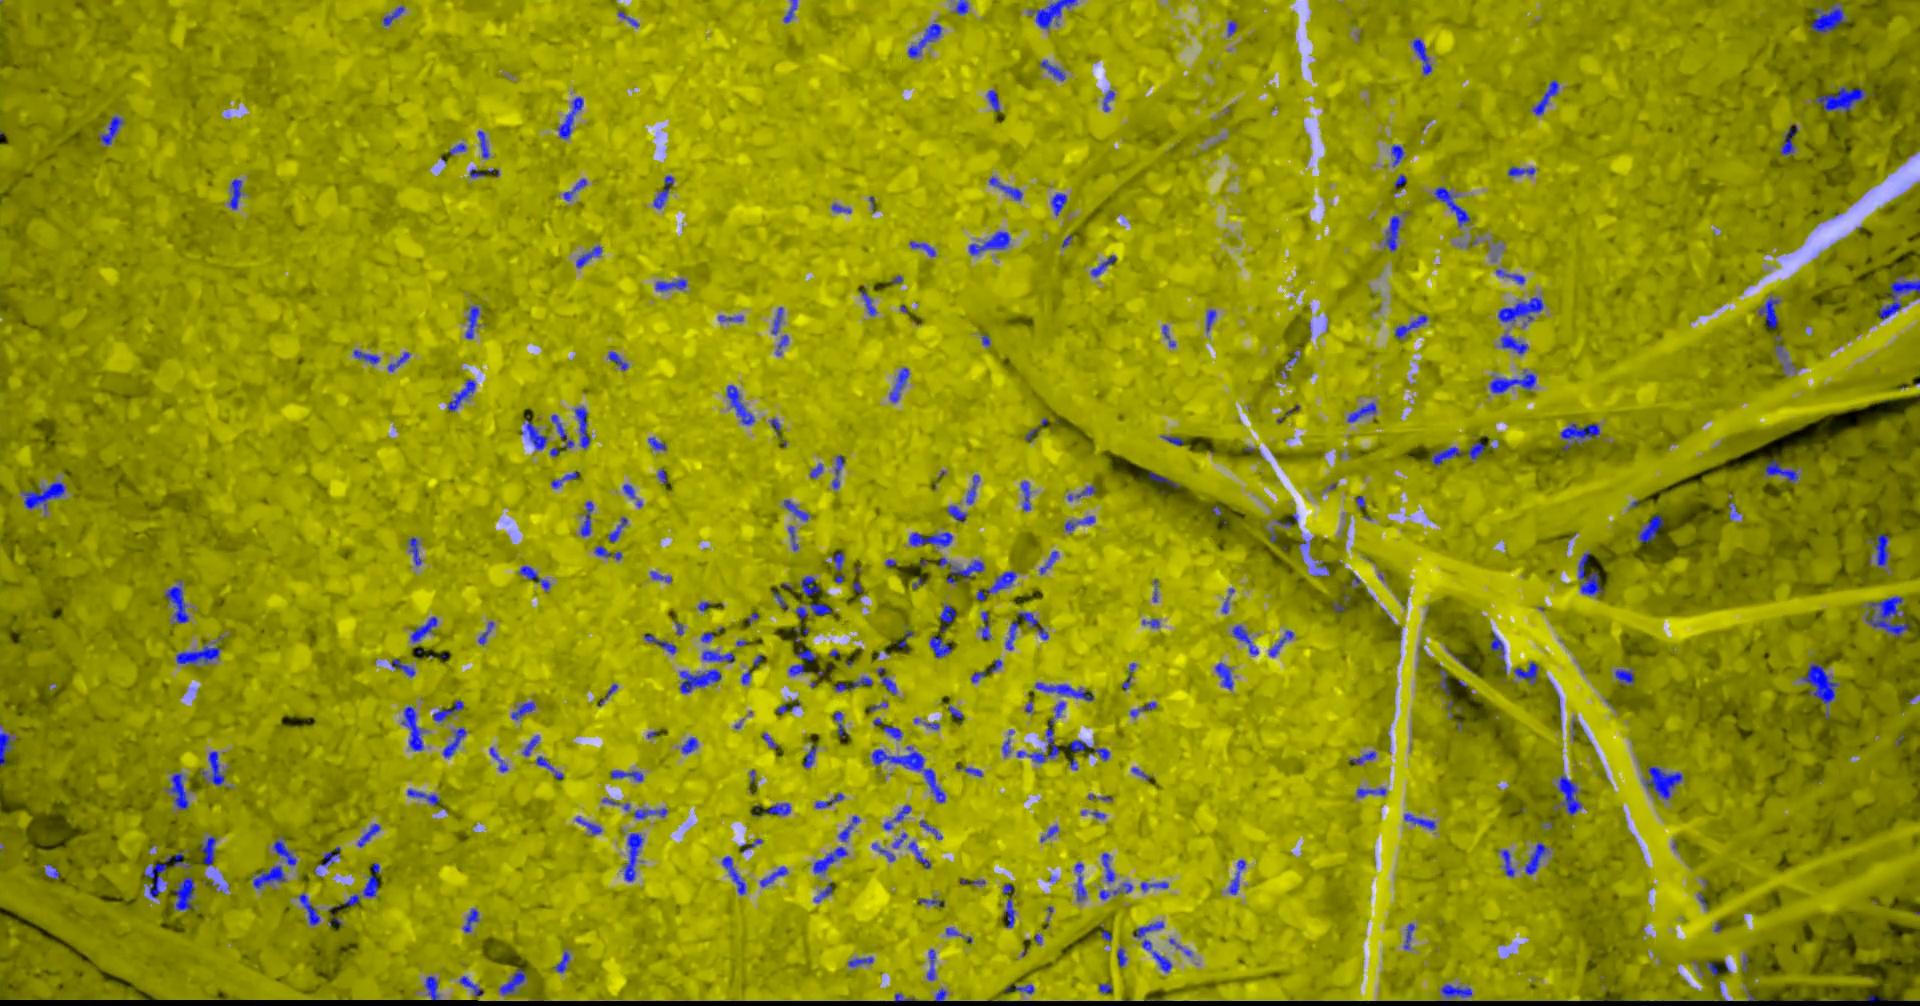ant: (871, 746, 945, 801), (143, 851, 190, 897), (1801, 662, 1837, 716), (1016, 718, 1059, 762), (1878, 276, 1919, 319), (1865, 596, 1909, 636), (1432, 185, 1470, 226), (1029, 0, 1076, 28), (1644, 766, 1683, 799), (22, 480, 63, 509), (1497, 296, 1543, 323), (1815, 86, 1864, 111), (907, 23, 941, 57), (977, 570, 1016, 600), (726, 384, 754, 424), (937, 558, 983, 582), (1810, 3, 1846, 32), (557, 97, 583, 138), (1577, 553, 1603, 594), (1034, 682, 1093, 700), (1559, 423, 1599, 450), (164, 580, 188, 622), (679, 669, 720, 694), (1557, 775, 1581, 815), (401, 705, 423, 749), (968, 231, 1010, 254), (721, 855, 745, 894), (1531, 79, 1558, 114), (811, 846, 847, 873), (623, 832, 643, 882), (1490, 372, 1535, 392), (1063, 739, 1109, 760), (1131, 921, 1163, 950), (447, 379, 475, 412), (1016, 612, 1048, 639), (1394, 312, 1427, 338), (175, 645, 218, 664), (1232, 624, 1258, 654), (550, 414, 573, 448), (1764, 459, 1798, 481), (521, 419, 547, 448), (988, 177, 1021, 199), (251, 865, 284, 888), (519, 565, 550, 589), (432, 699, 463, 721), (328, 893, 359, 916), (168, 772, 188, 808), (643, 633, 676, 654), (173, 876, 194, 909), (499, 968, 526, 995), (1638, 514, 1663, 542), (883, 804, 910, 829), (971, 658, 1001, 682), (272, 836, 296, 865), (442, 727, 465, 757), (1525, 842, 1547, 874), (1412, 38, 1431, 74), (410, 616, 437, 641), (98, 116, 122, 144), (535, 754, 563, 779), (653, 175, 673, 208), (1490, 633, 1506, 673), (298, 892, 319, 925), (1757, 296, 1779, 326), (889, 367, 908, 401), (574, 406, 589, 448), (795, 603, 830, 621), (1269, 630, 1293, 655), (909, 532, 952, 546), (1346, 401, 1375, 422), (1228, 859, 1244, 894), (1098, 882, 1131, 899), (1512, 661, 1537, 685), (356, 823, 380, 847), (908, 841, 930, 868), (1500, 334, 1528, 354), (759, 866, 787, 887), (1431, 447, 1463, 465), (408, 788, 439, 805), (1384, 215, 1399, 251), (833, 677, 872, 691), (1040, 58, 1065, 80), (575, 245, 601, 267), (1872, 533, 1888, 567), (362, 862, 378, 895), (1090, 255, 1116, 276), (607, 516, 627, 542), (876, 667, 897, 694), (1403, 813, 1435, 829), (208, 751, 223, 785), (858, 286, 876, 315), (838, 815, 858, 841), (1064, 514, 1095, 531), (563, 178, 585, 199), (783, 499, 808, 520), (458, 976, 483, 996), (575, 815, 601, 835), (1780, 124, 1797, 154), (199, 836, 216, 865), (830, 453, 844, 488), (930, 635, 951, 657), (1148, 471, 1178, 486), (919, 819, 942, 840), (465, 305, 479, 338), (580, 500, 593, 536), (390, 658, 415, 676), (489, 747, 507, 772), (1074, 861, 1086, 901), (814, 793, 843, 808), (550, 471, 577, 488), (938, 605, 955, 631), (1215, 662, 1232, 688), (387, 351, 409, 371), (510, 701, 535, 719), (965, 474, 979, 504), (1067, 485, 1095, 500), (1440, 984, 1470, 998), (610, 768, 643, 781), (607, 351, 629, 370), (319, 846, 340, 865), (1495, 269, 1524, 283), (1004, 621, 1018, 650), (594, 545, 621, 560), (1039, 551, 1057, 574), (1121, 662, 1137, 688), (1129, 701, 1156, 716), (871, 843, 894, 861), (229, 178, 241, 210), (408, 537, 422, 565), (1500, 848, 1514, 876), (382, 6, 403, 25), (909, 241, 935, 257), (655, 278, 686, 291), (1101, 852, 1114, 883), (1150, 951, 1171, 970), (701, 650, 734, 662), (0, 732, 11, 765), (763, 801, 790, 815), (462, 908, 477, 932), (800, 575, 819, 594), (617, 9, 639, 25), (353, 349, 378, 363), (832, 711, 846, 737), (833, 553, 844, 583), (477, 621, 493, 644), (632, 808, 667, 818), (1003, 897, 1015, 927), (424, 976, 439, 998), (1001, 729, 1013, 756), (955, 763, 982, 776), (813, 883, 832, 901), (522, 735, 538, 756), (552, 951, 569, 972), (1350, 751, 1375, 763), (477, 130, 489, 158), (1051, 192, 1065, 215), (776, 699, 799, 713), (1467, 441, 1484, 459), (795, 647, 815, 662), (1614, 669, 1634, 685), (771, 307, 782, 334), (783, 0, 797, 22), (985, 89, 999, 111), (803, 746, 817, 767), (1020, 481, 1030, 511), (761, 732, 777, 749), (681, 735, 697, 753), (926, 948, 935, 981), (1390, 144, 1403, 166), (1437, 669, 1449, 695), (1403, 923, 1415, 949), (946, 506, 966, 520), (980, 611, 990, 639), (1004, 983, 1032, 993), (917, 895, 943, 906), (883, 725, 902, 739), (789, 663, 811, 674), (1356, 788, 1385, 796), (775, 334, 787, 354), (847, 956, 872, 967), (897, 631, 913, 647), (1040, 826, 1057, 841), (1140, 882, 1168, 890), (1774, 335, 1785, 357), (1507, 166, 1534, 175), (1102, 90, 1114, 111), (1161, 434, 1183, 445), (648, 437, 665, 450), (650, 572, 670, 582), (1206, 309, 1215, 332), (954, 0, 968, 14), (1704, 962, 1718, 976), (1116, 948, 1126, 967), (809, 464, 822, 478), (622, 484, 635, 498), (933, 988, 946, 1002), (1053, 701, 1064, 716), (450, 144, 466, 154), (717, 315, 743, 321), (1098, 982, 1112, 993), (1227, 22, 1236, 36)
